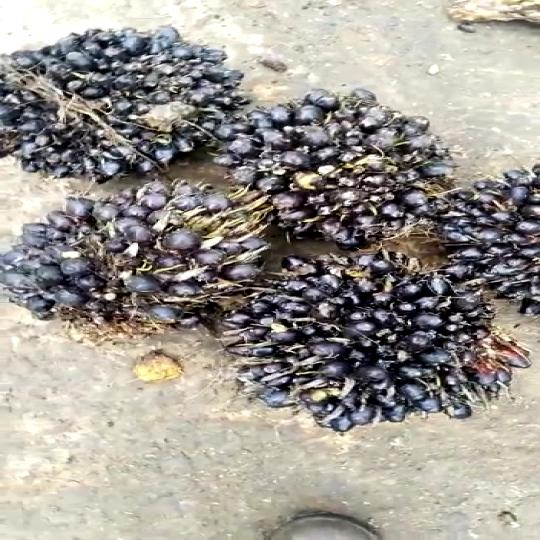mentah: (229, 256, 535, 431), (5, 177, 265, 353), (0, 24, 248, 201), (231, 80, 430, 243)
